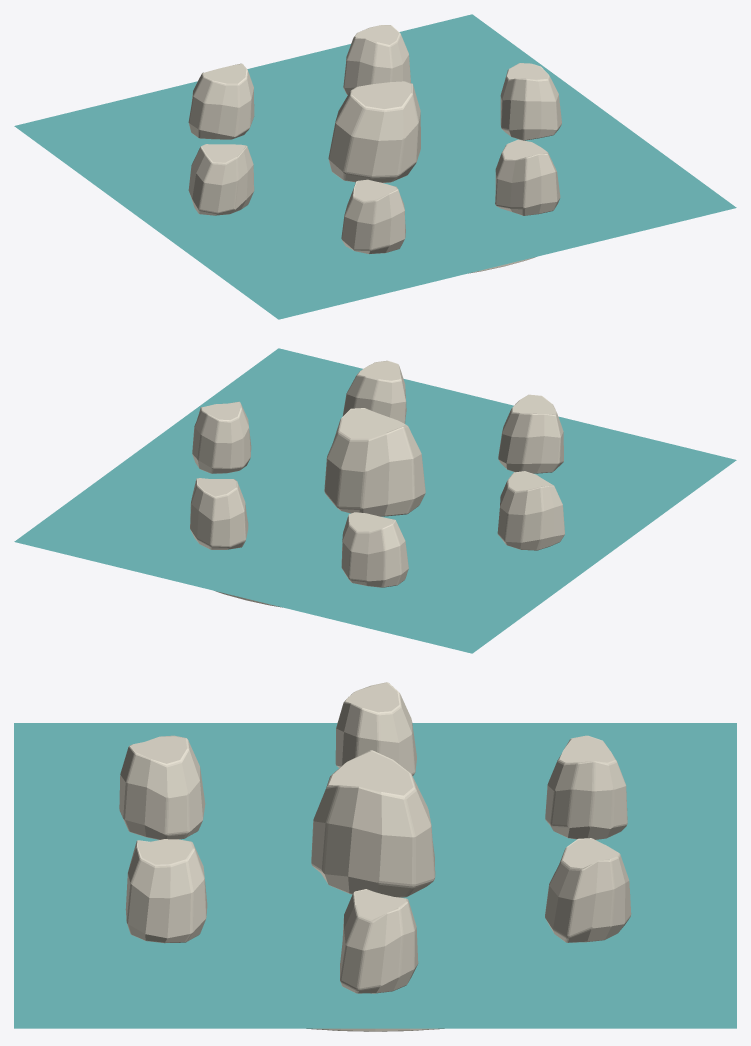
The model's file is Test_CheonRef_ConstellationGarden.fbx.
3 renders of one model, top to bottom at view 1: azimuth 30°, elevation 25°; view 2: azimuth 150°, elevation 25°; view 3: azimuth 270°, elevation 25°, orthographic. The views are drawn at different scales.
Parts seen in each view (by area): view 1: ConstellationInlay, CentralConstellationStone, OuterStarStone.002, OuterStarStone.003, OuterStarStone.005, OuterStarStone.004, OuterStarStone, OuterStarStone.001; view 2: ConstellationInlay, CentralConstellationStone, OuterStarStone.003, OuterStarStone.002, OuterStarStone.004, OuterStarStone.001, OuterStarStone, OuterStarStone.005; view 3: ConstellationInlay, CentralConstellationStone, OuterStarStone.004, OuterStarStone.005, OuterStarStone.001, OuterStarStone, OuterStarStone.002, OuterStarStone.003.
Part boxes in pixels (x1,y1,x2,y2): ConstellationInlay: (14, 14, 736, 319); CentralConstellationStone: (328, 81, 420, 182); OuterStarStone.002: (188, 63, 254, 139); OuterStarStone.003: (188, 144, 254, 215); OuterStarStone.005: (495, 139, 560, 215); OuterStarStone.004: (341, 179, 405, 254); OuterStarStone: (500, 63, 561, 140); OuterStarStone.001: (343, 25, 410, 94); ConstellationInlay: (14, 348, 736, 653); CentralConstellationStone: (324, 408, 425, 516); OuterStarStone.003: (497, 471, 564, 550); OuterStarStone.002: (341, 512, 408, 587); OuterStarStone.004: (498, 394, 563, 473); OuterStarStone.001: (190, 478, 248, 549); OuterStarStone: (192, 401, 251, 473); OuterStarStone.005: (342, 360, 406, 423); ConstellationInlay: (14, 723, 736, 1028); CentralConstellationStone: (311, 750, 435, 897); OuterStarStone.004: (119, 735, 205, 839); OuterStarStone.005: (125, 839, 207, 943); OuterStarStone.001: (545, 838, 631, 942); OuterStarStone: (340, 889, 418, 993); OuterStarStone.002: (545, 735, 627, 839); OuterStarStone.003: (335, 682, 416, 775).
Size of the model in its own units: 800 by 143 by 800.
